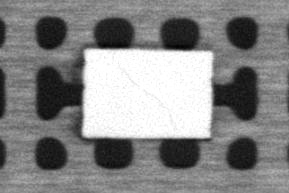DIE_CRACK: (116, 62, 175, 128)
